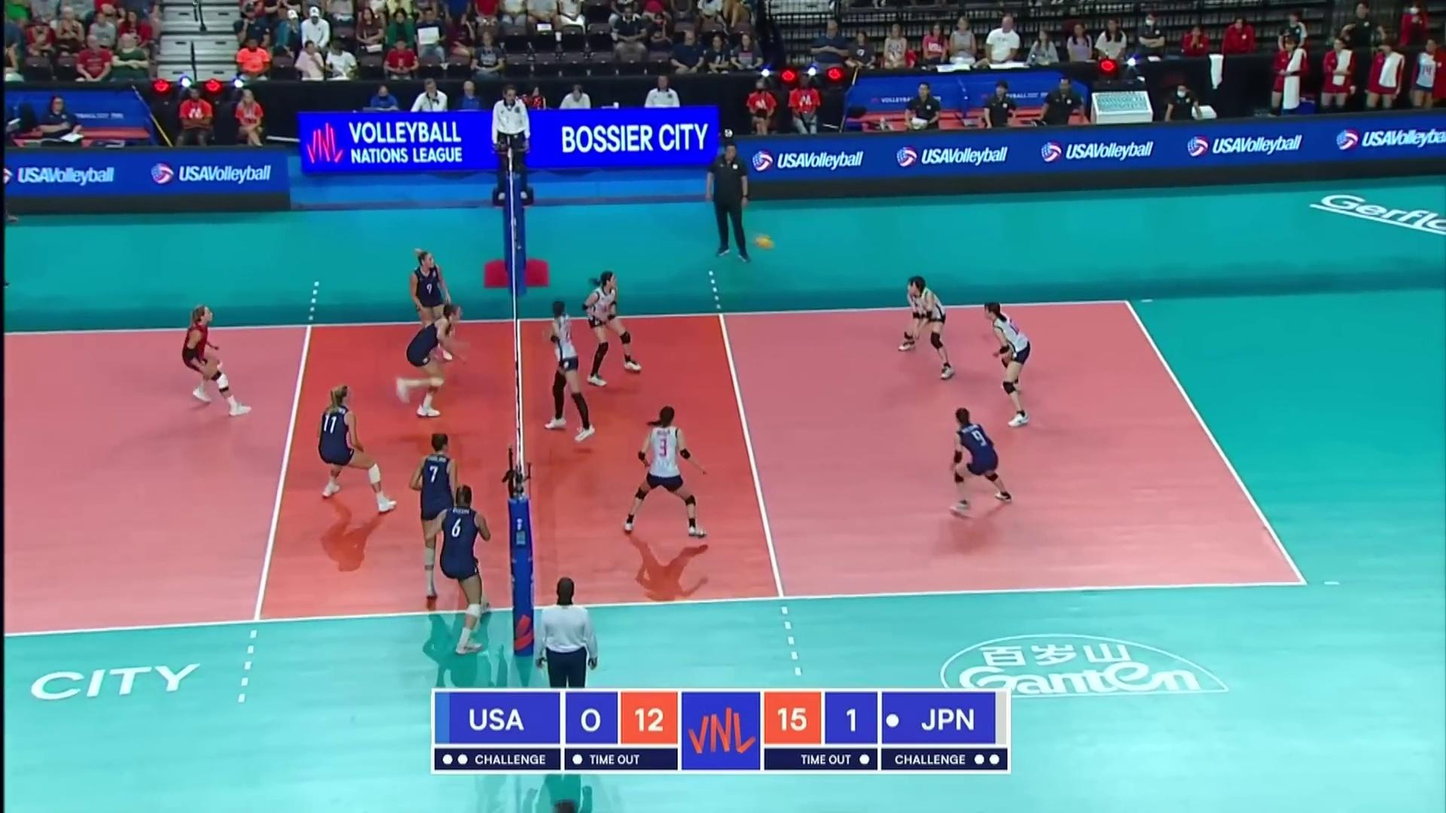player: (623, 407, 712, 536), (429, 486, 492, 653), (317, 384, 399, 511), (410, 433, 463, 601), (543, 297, 598, 441), (396, 302, 464, 418), (185, 305, 254, 413), (950, 409, 1012, 513), (983, 300, 1033, 426), (589, 274, 643, 384), (900, 277, 953, 380), (410, 251, 456, 362)
refree: (538, 577, 596, 718), (490, 86, 534, 201)
